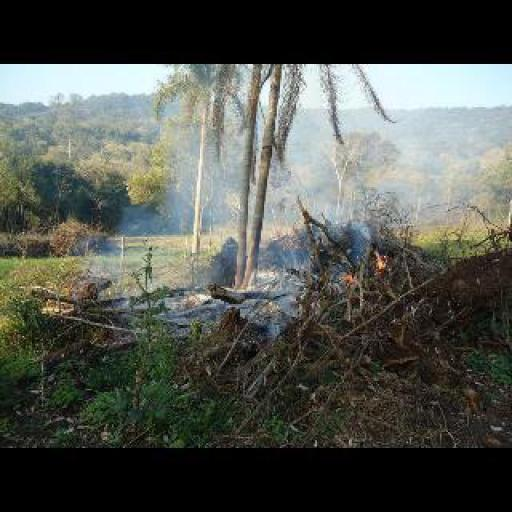smoke: (368, 243, 390, 280), (328, 270, 360, 292)
